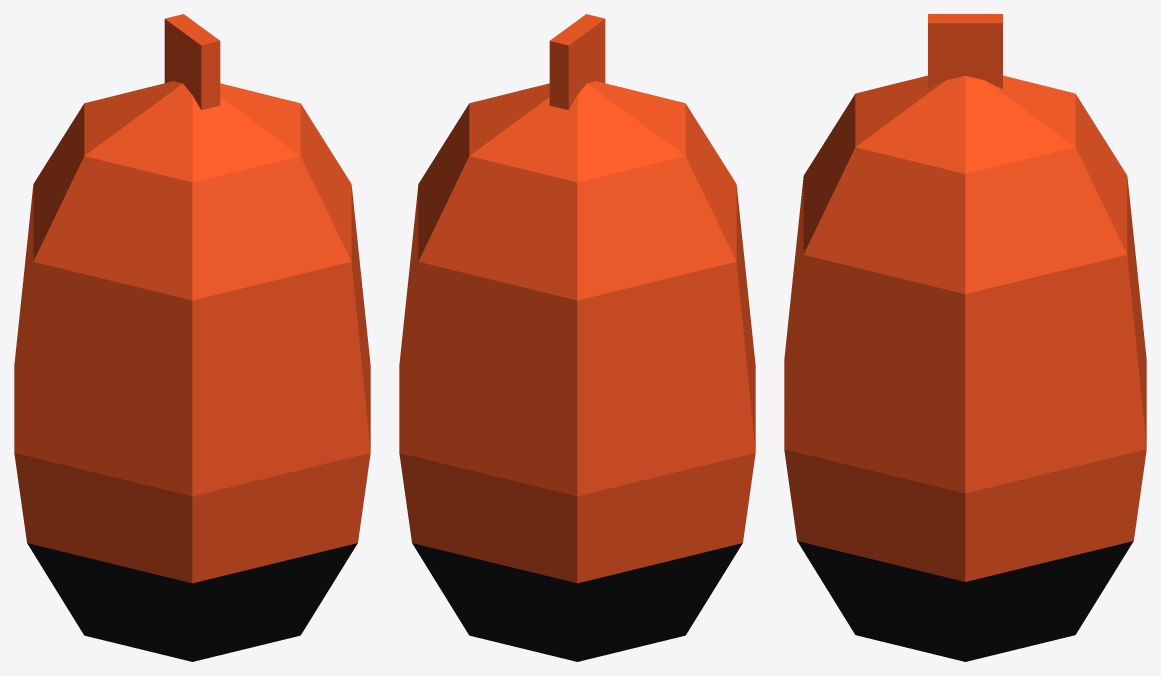
File: Buoy.fbx
3 views of the same model, side by side, from view 1: azimuth 30°, elevation 25°; view 2: azimuth 150°, elevation 25°; view 3: azimuth 270°, elevation 25° (orthographic).
Visible parts, largest first — view 1: Buoy; view 2: Buoy; view 3: Buoy.
Part boxes in pixels (box(x1,y1,x2,y2)): Buoy: box(14, 14, 370, 661); Buoy: box(399, 14, 755, 661); Buoy: box(784, 14, 1146, 661).
Size of the model in its own units: 0.2 by 0.3107 by 0.1732.
